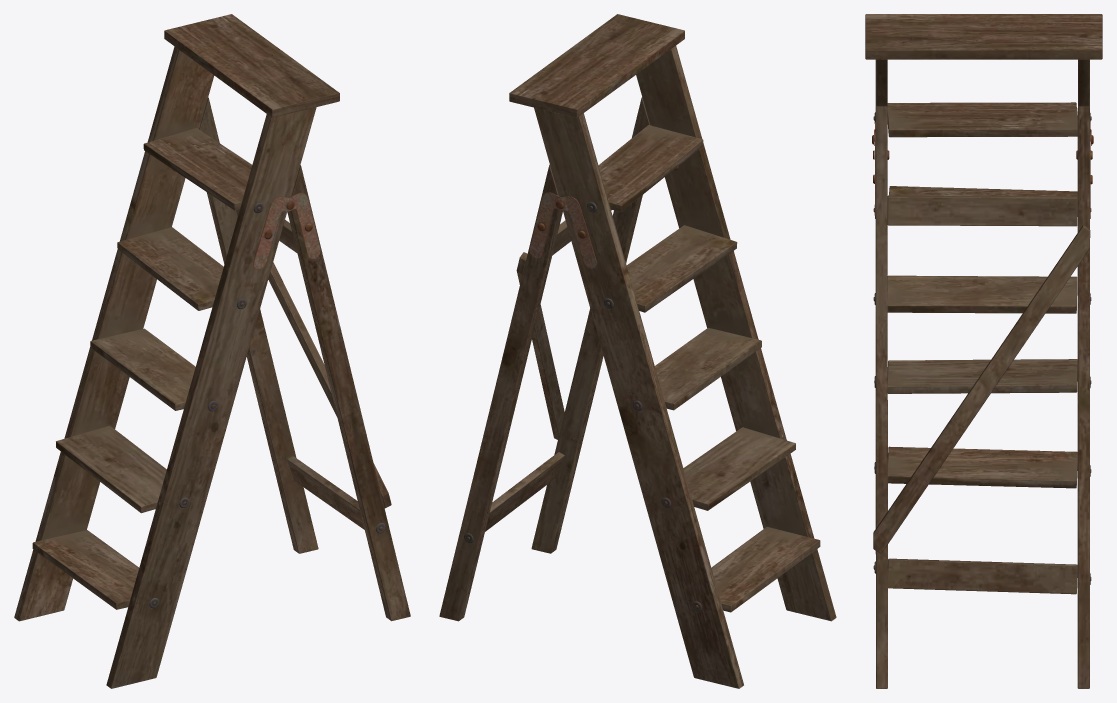
File: wooden_ladder_02.glb
3 renders of one model, left to right at view 1: azimuth 30°, elevation 25°; view 2: azimuth 150°, elevation 25°; view 3: azimuth 270°, elevation 25°, orthographic. The views are drawn at different scales.
Parts seen in each view (by area): view 1: wooden_ladder_02; view 2: wooden_ladder_02; view 3: wooden_ladder_02.
Boxes of the visible parts, box(x1,y1,x2,y2) form: wooden_ladder_02: box(14, 14, 410, 688); wooden_ladder_02: box(439, 14, 836, 688); wooden_ladder_02: box(865, 14, 1102, 688).
Bounding box in the file's own units: 0.9895 × 1.72 × 0.6181.
Materials: 1 (1 with a texture image).
